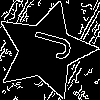J: (20, 25, 74, 62)
